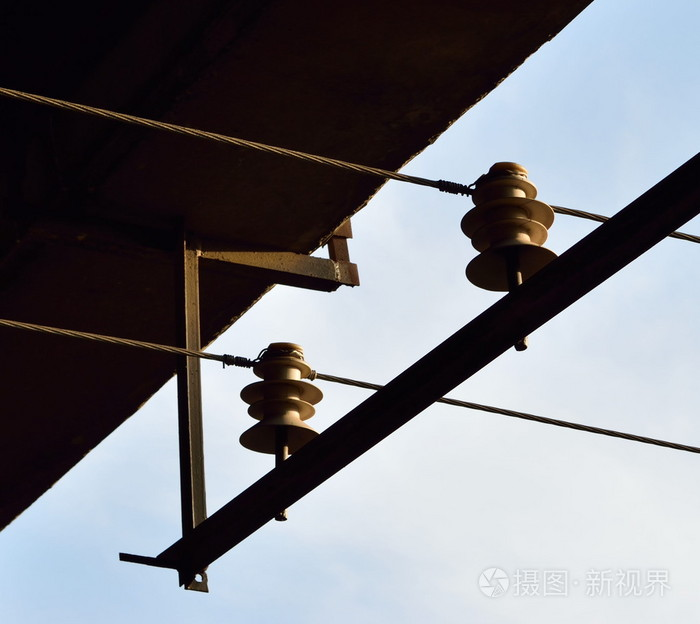insulator: (458, 195, 562, 289), (239, 374, 324, 454)
